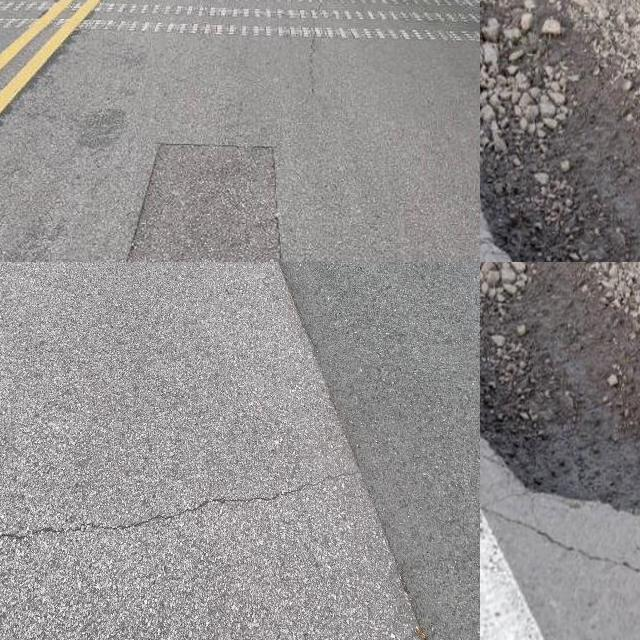Melintang: (0, 462, 365, 559)
Pinggir: (480, 0, 640, 262), (480, 262, 640, 522)
Sambungan: (281, 262, 480, 640)
